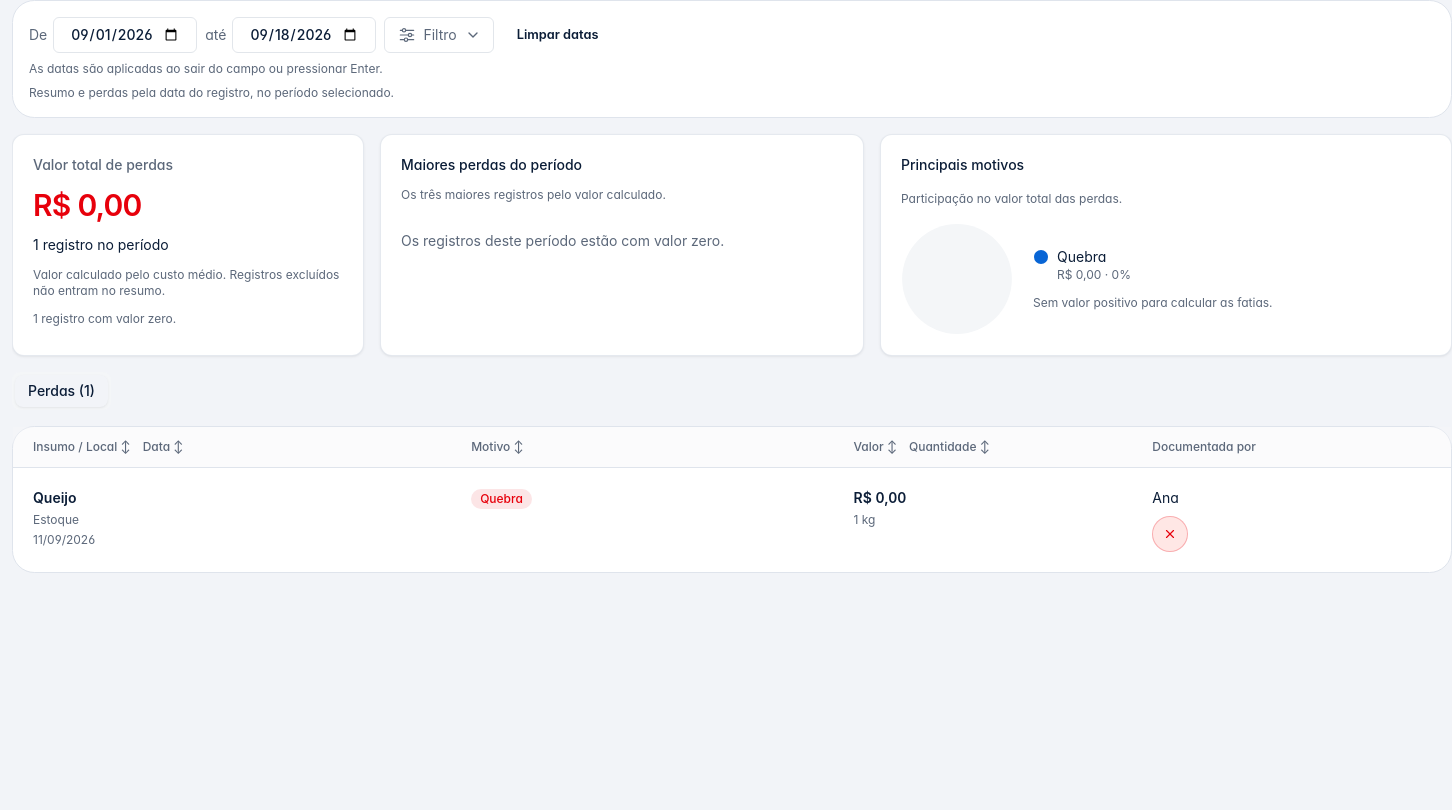
Test: oferece os atalhos de período do Manifesto e não expõe exclusões a usuário comum
What coordinates should you click on to do the following:
click the dropdown labelled "Filtro"
I would click on:
 (439, 35)
Its box is x1=384 y1=17 x2=494 y2=53.
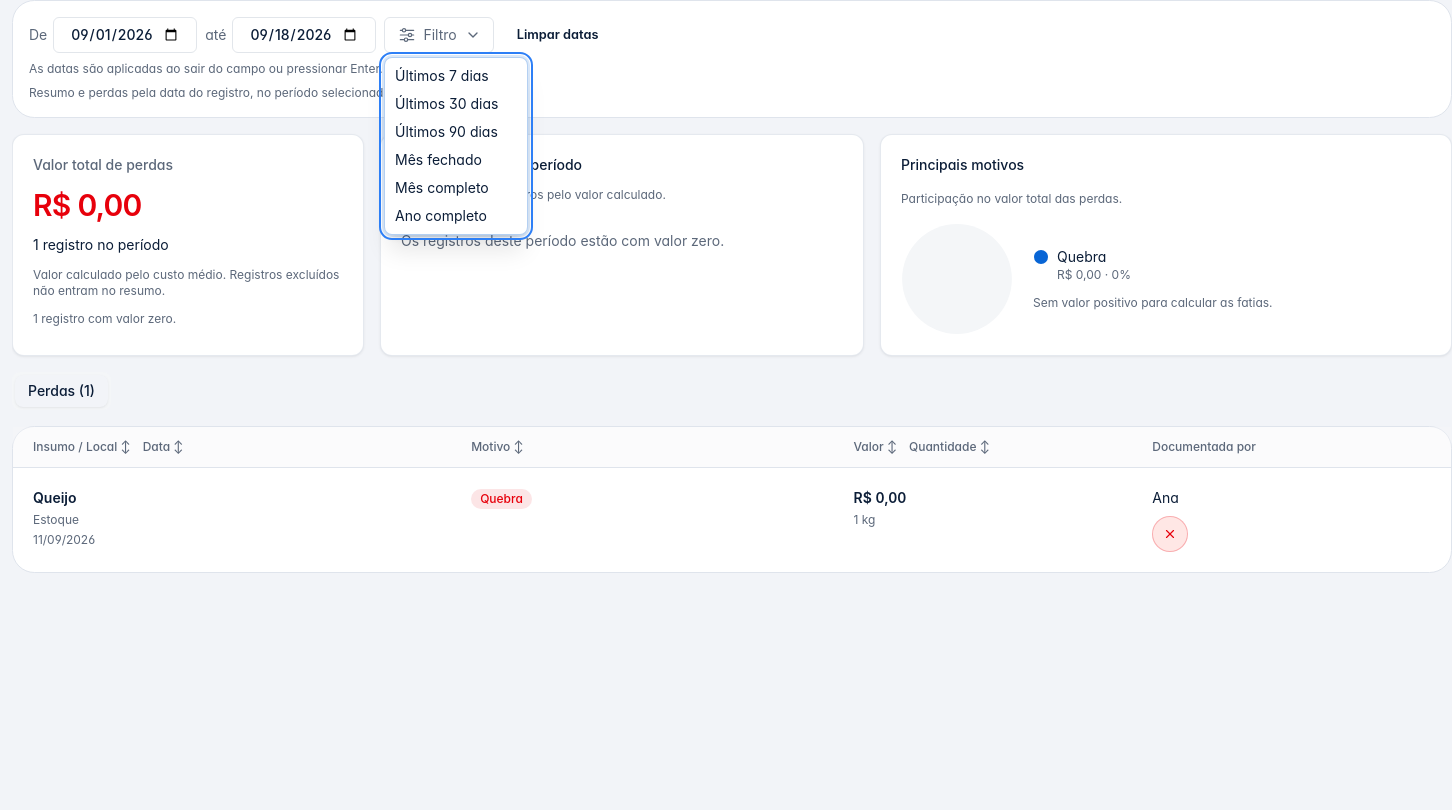
Result: the option "Últimos 30 dias" is shown at x1=395 y1=95 x2=498 y2=112
Result: the option "Mês fechado" is shown at x1=395 y1=151 x2=482 y2=168
Result: the option "Ano completo" is shown at x1=395 y1=207 x2=487 y2=224
